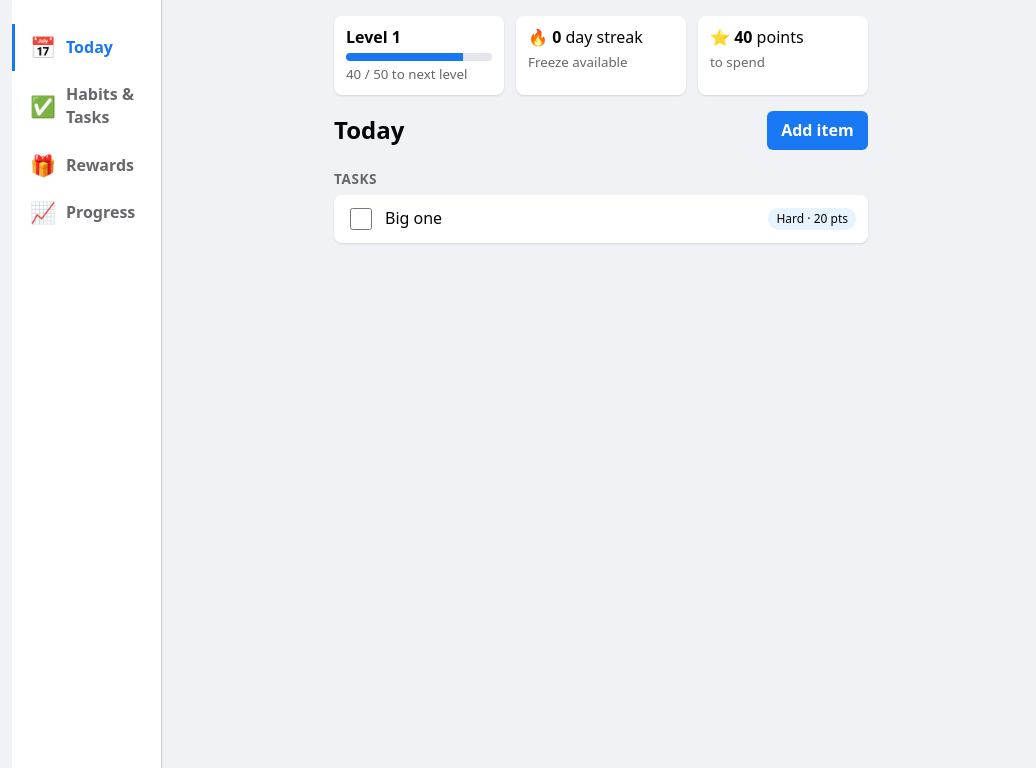
Test: Today screen › shows a level-up celebration when a completion crosses a level threshold
Expected: the text with test id "level" reads "Level 1", [346,26,401,48]
Click the checkbox labelled "Big one Hard · 20 pts" at (361, 219), box [350,208,372,230]
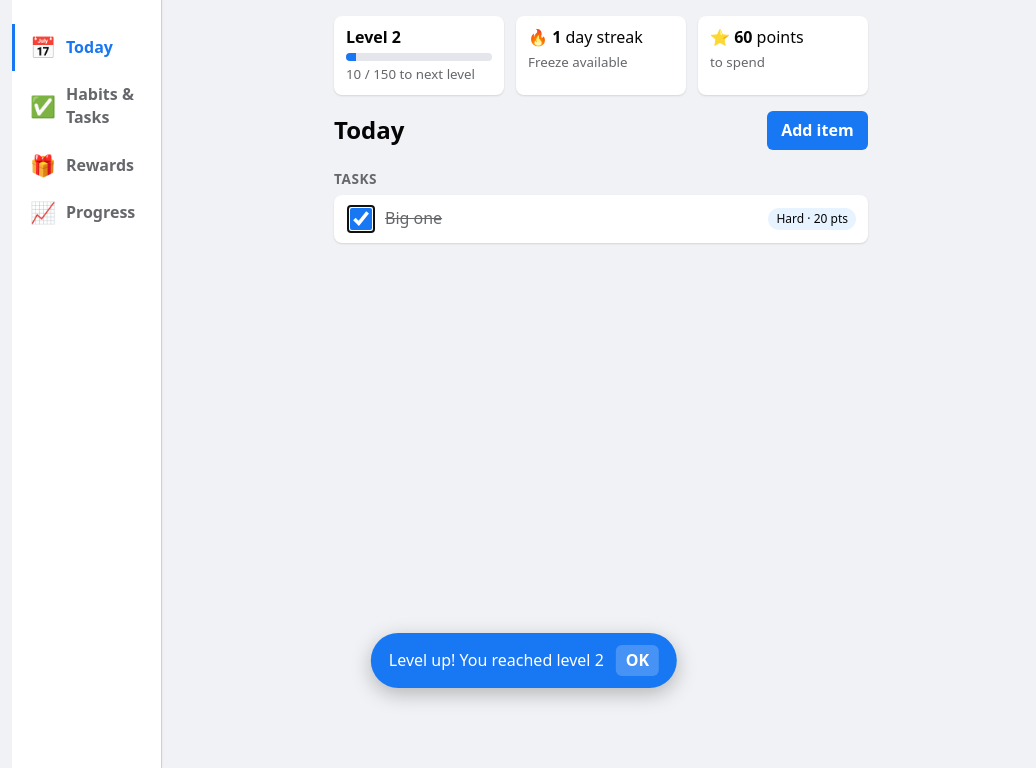
Now the text with test id "level" reads "Level 2", box [346,26,401,48]
Now the text "Level up! You reached level 2 OK" is shown, box [371,633,677,688]
